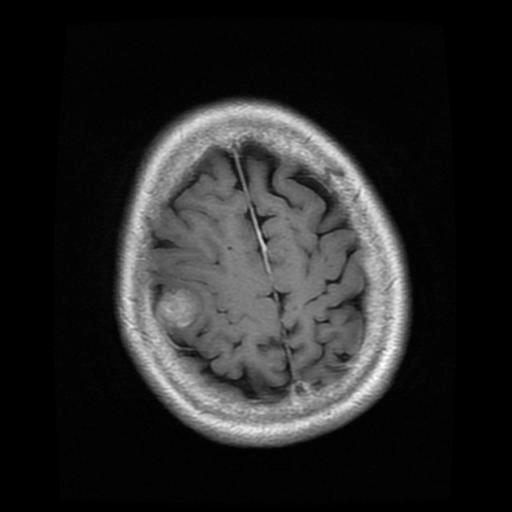Tumour-Meningioma: (140, 277, 209, 350)
